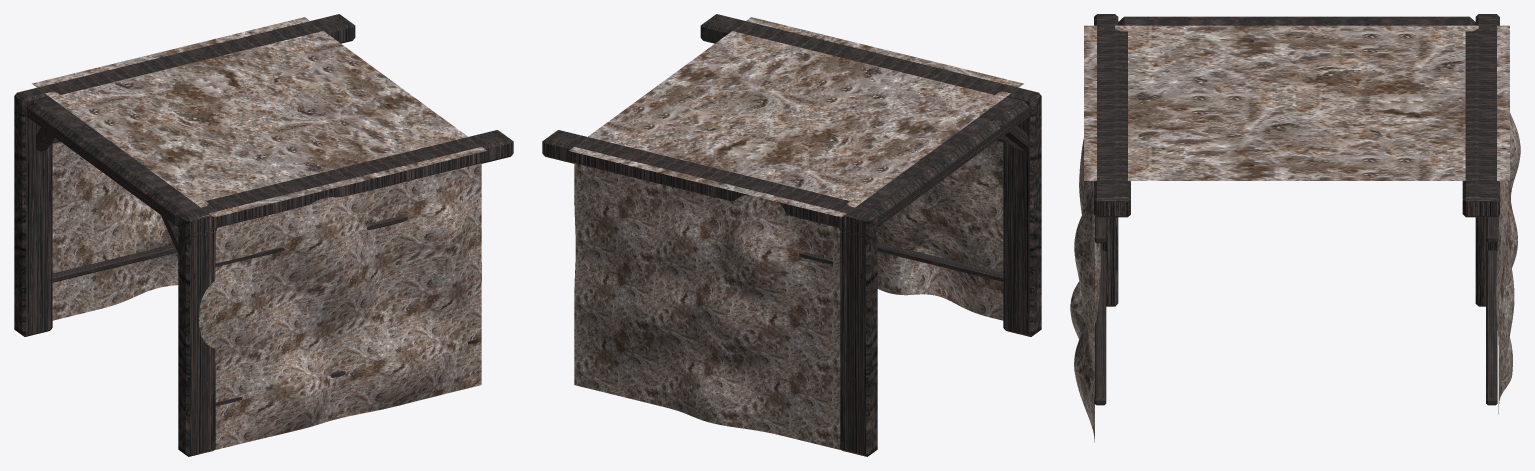
The model's file is tes mine.fbx.
3 renders of one model, left to right at view 1: azimuth 30°, elevation 25°; view 2: azimuth 150°, elevation 25°; view 3: azimuth 270°, elevation 25°, orthographic. The views are drawn at different scales.
Parts seen in each view (by area): view 1: walls_and_ceiling, pCube1, pasted__pCube2, pasted__pCube3, pasted__pCube4, pasted__pCube8, pasted__pCube11; view 2: walls_and_ceiling, pCube1, pasted__pCube3, pasted__pCube2, pasted__pCube4, pasted__pCube14; view 3: pCube1, walls_and_ceiling, pasted__pCube3, pasted__pCube2, pasted__pCube4, pasted__pCube8, pasted__pCube14.
Part boxes in pixels (bbox=[...]): walls_and_ceiling: bbox=[52, 141, 481, 453]; pCube1: bbox=[32, 17, 486, 217]; pasted__pCube2: bbox=[178, 130, 513, 456]; pasted__pCube3: bbox=[14, 14, 355, 336]; pasted__pCube4: bbox=[26, 96, 200, 226]; pasted__pCube8: bbox=[52, 244, 176, 282]; pasted__pCube11: bbox=[215, 200, 477, 267]; walls_and_ceiling: bbox=[574, 141, 1003, 453]; pCube1: bbox=[569, 17, 1023, 217]; pasted__pCube3: bbox=[542, 130, 877, 456]; pasted__pCube2: bbox=[700, 14, 1041, 336]; pasted__pCube4: bbox=[855, 96, 1029, 226]; pasted__pCube14: bbox=[877, 242, 1003, 281]; pCube1: bbox=[1084, 25, 1509, 180]; walls_and_ceiling: bbox=[1070, 113, 1520, 442]; pasted__pCube3: bbox=[1462, 14, 1499, 306]; pasted__pCube2: bbox=[1094, 14, 1130, 306]; pasted__pCube4: bbox=[1118, 16, 1475, 25]; pasted__pCube8: bbox=[1486, 250, 1497, 405]; pasted__pCube14: bbox=[1094, 250, 1106, 405].
Bounding box in the file's own units: 2.69 × 1.88 × 2.75.
2 materials, 2 textured.
